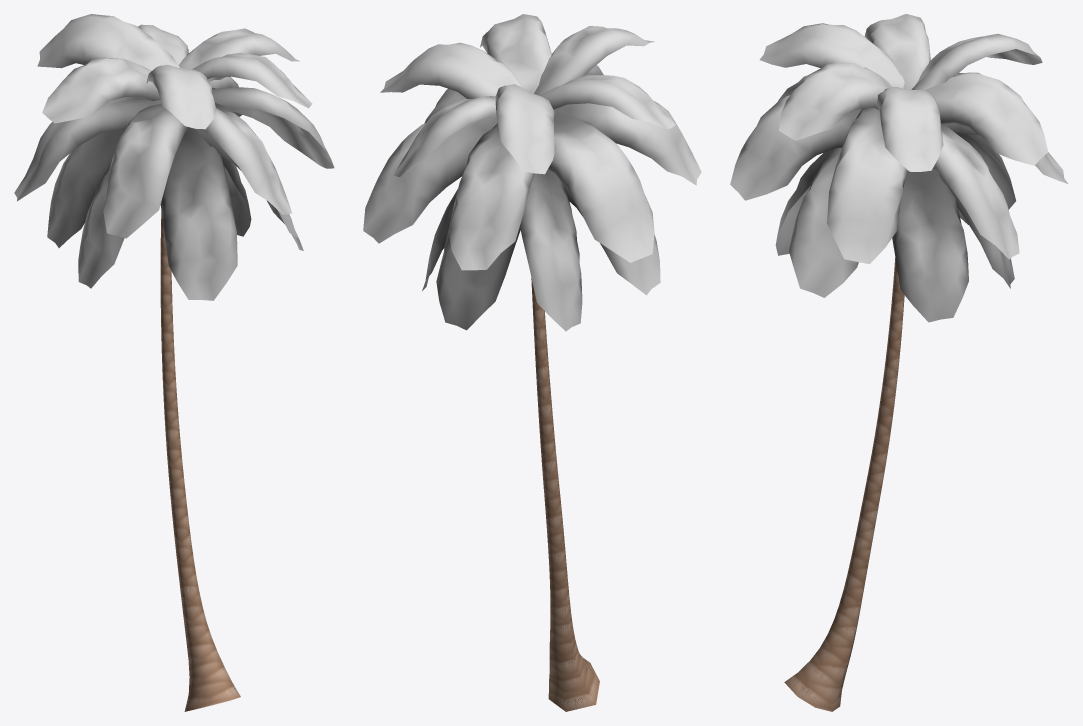
Rendered from SW3_PalmTree_Tall.fbx.
3 renders of one model, left to right at view 1: azimuth 30°, elevation 25°; view 2: azimuth 150°, elevation 25°; view 3: azimuth 270°, elevation 25°, orthographic. The views are drawn at different scales.
Visible parts, largest first — view 1: PalmTree_Tall_LOD0; view 2: PalmTree_Tall_LOD0; view 3: PalmTree_Tall_LOD0.
Part boxes in pixels (<box>): PalmTree_Tall_LOD0: <box>14,14,334,711</box>; PalmTree_Tall_LOD0: <box>363,14,701,711</box>; PalmTree_Tall_LOD0: <box>730,14,1068,711</box>.
Bounding box in the file's own units: 554 × 1271 × 586.
Materials: 2 (1 with a texture image).
